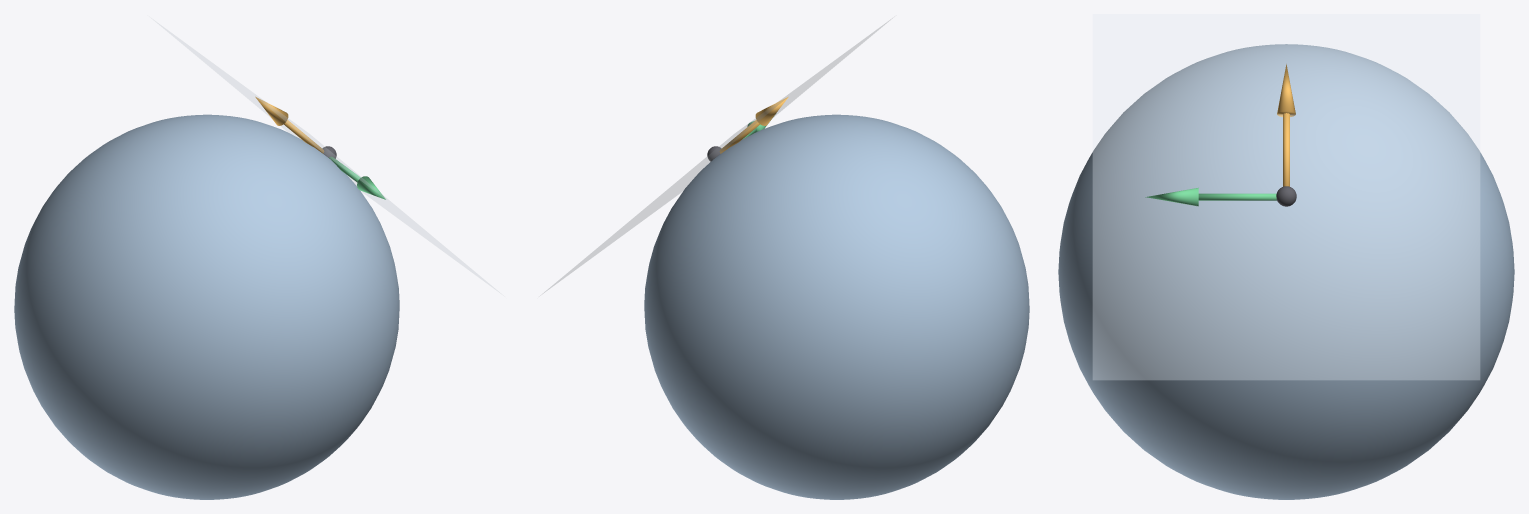
The model's file is tangent-plane.glb.
3 renders of one model, left to right at view 1: azimuth 30°, elevation 25°; view 2: azimuth 150°, elevation 25°; view 3: azimuth 270°, elevation 25°, orthographic. The views are drawn at different scales.
Parts seen in each view (by area): view 1: Sphere, TangentPlane, Velocity, SecondDirection; view 2: Sphere, TangentPlane, Velocity; view 3: Sphere, TangentPlane, SecondDirection, Velocity.
Boxes of the visible parts, x1,y1,x2,y2 form: Sphere: (14,114,399,499); TangentPlane: (151,18,500,293); Velocity: (255,96,324,153); SecondDirection: (329,156,385,199); Sphere: (644,114,1029,499); TangentPlane: (543,18,892,293); Velocity: (719,96,788,153); Sphere: (1058,44,1514,499); TangentPlane: (1093,14,1479,379); SecondDirection: (1145,187,1276,206); Velocity: (1277,64,1295,186).
Bounding box in the file's own units: 2.31 × 2.31 × 2.
